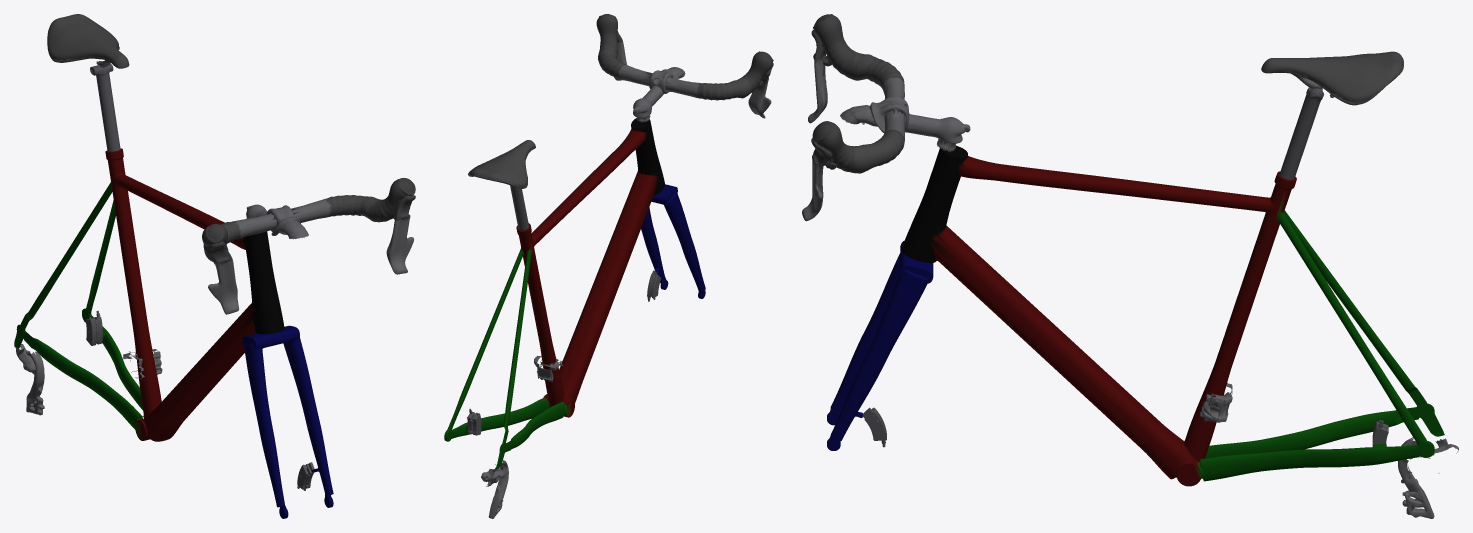
The model's file is look785xl_lod0.glb.
3 renders of one model, left to right at view 1: azimuth 30°, elevation 25°; view 2: azimuth 150°, elevation 25°; view 3: azimuth 270°, elevation 25°, orthographic. The views are drawn at different scales.
Parts seen in each view (by area): view 1: frame, cockpit, fork, saddle, seatpost, etrier_arriere; view 2: frame, cockpit, fork, saddle, seatpost; view 3: frame, cockpit, fork, saddle, seatpost.
Part boxes in pixels (x1=…): frame: x1=14, y1=148, x2=284, y2=441; cockpit: x1=202, y1=178, x2=415, y2=314; fork: x1=242, y1=325, x2=333, y2=518; saddle: x1=47, y1=14, x2=129, y2=68; seatpost: x1=90, y1=63, x2=120, y2=151; etrier_arriere: x1=85, y1=310, x2=102, y2=345; frame: x1=444, y1=118, x2=664, y2=518; cockpit: x1=596, y1=14, x2=773, y2=122; fork: x1=641, y1=184, x2=705, y2=298; saddle: x1=468, y1=140, x2=535, y2=188; seatpost: x1=510, y1=185, x2=528, y2=230; frame: x1=902, y1=145, x2=1458, y2=518; cockpit: x1=802, y1=14, x2=970, y2=221; fork: x1=827, y1=241, x2=933, y2=450; saddle: x1=1261, y1=51, x2=1403, y2=105; seatpost: x1=1279, y1=87, x2=1324, y2=179.
Size of the model in its own units: 0.495 by 0.9024 by 1.14.
